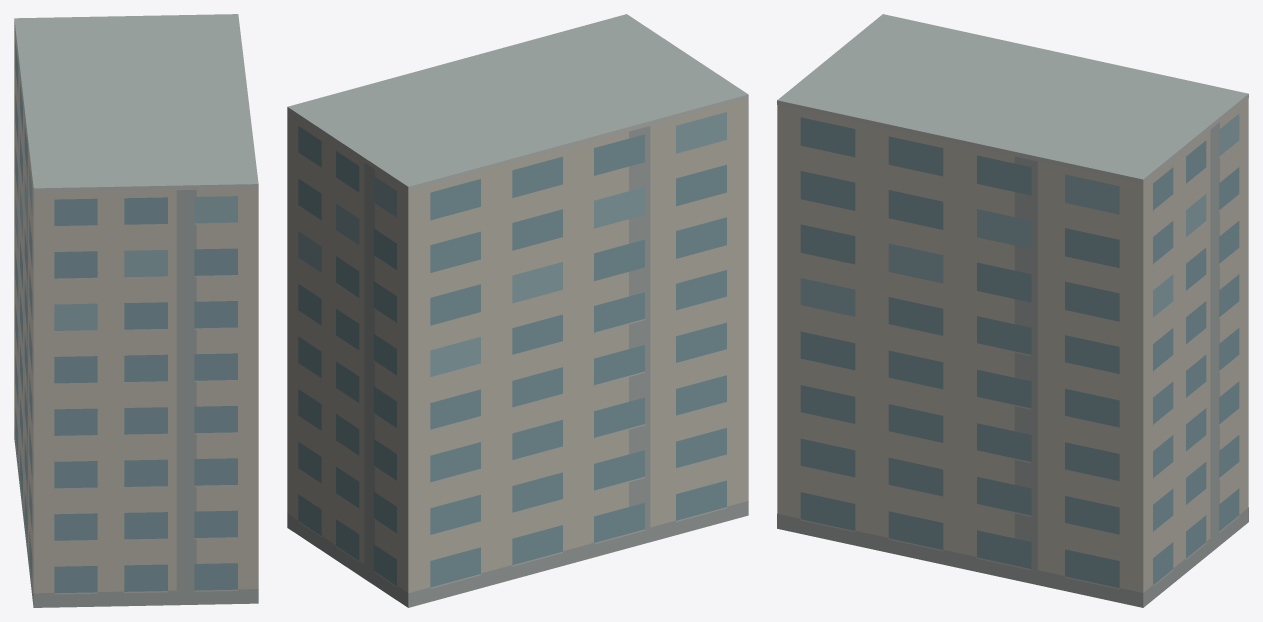
File: survey-upis-32969540.glb
3 renders of one model, left to right at view 1: azimuth 30°, elevation 25°; view 2: azimuth 150°, elevation 25°; view 3: azimuth 270°, elevation 25°, orthographic. The views are drawn at different scales.
Parts seen in each view (by area): view 1: survey-upis-32969540.tmp; view 2: survey-upis-32969540.tmp; view 3: survey-upis-32969540.tmp.
Boxes of the visible parts, <box> form: survey-upis-32969540.tmp: <box>14,14,258,607</box>; survey-upis-32969540.tmp: <box>287,14,748,607</box>; survey-upis-32969540.tmp: <box>777,14,1248,607</box>.
Bounding box in the file's own units: 18.2 × 21.95 × 21.91.
